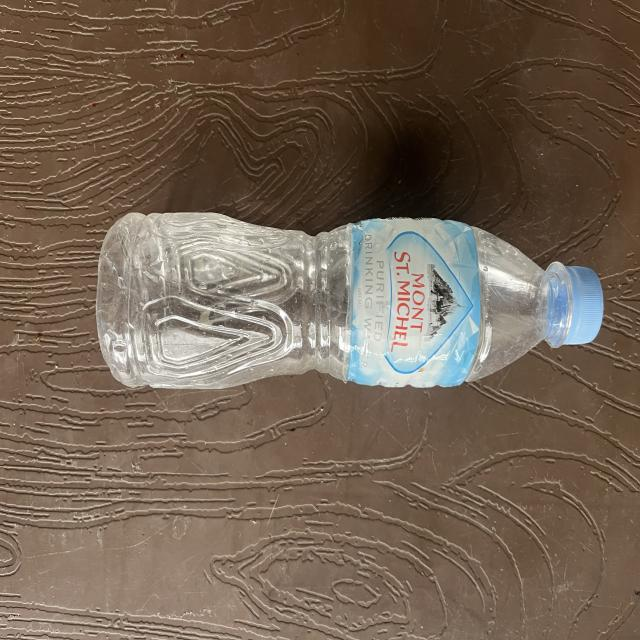REJECT: (145, 205, 608, 406)
